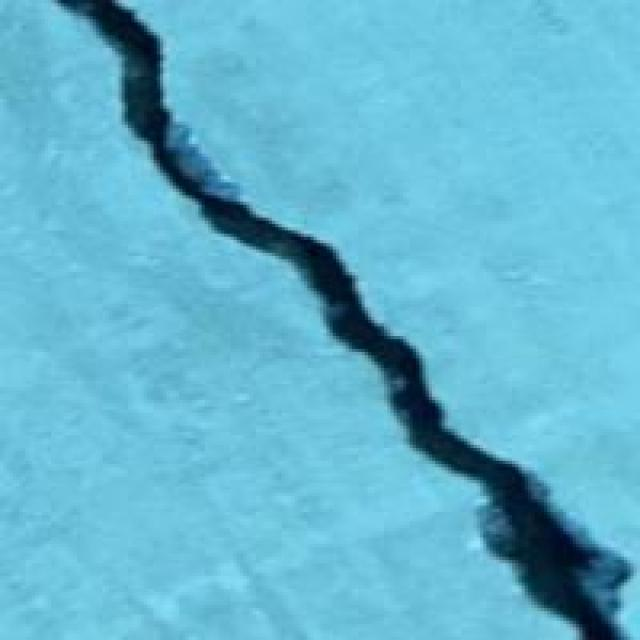crack: (61, 0, 637, 634)
